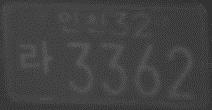2: (167, 45, 195, 101), (131, 12, 152, 38)
3: (65, 40, 93, 94), (98, 41, 126, 94), (106, 11, 129, 35)
6: (134, 43, 161, 96)
라: (17, 40, 52, 75)
인천_O: (60, 11, 101, 35)
